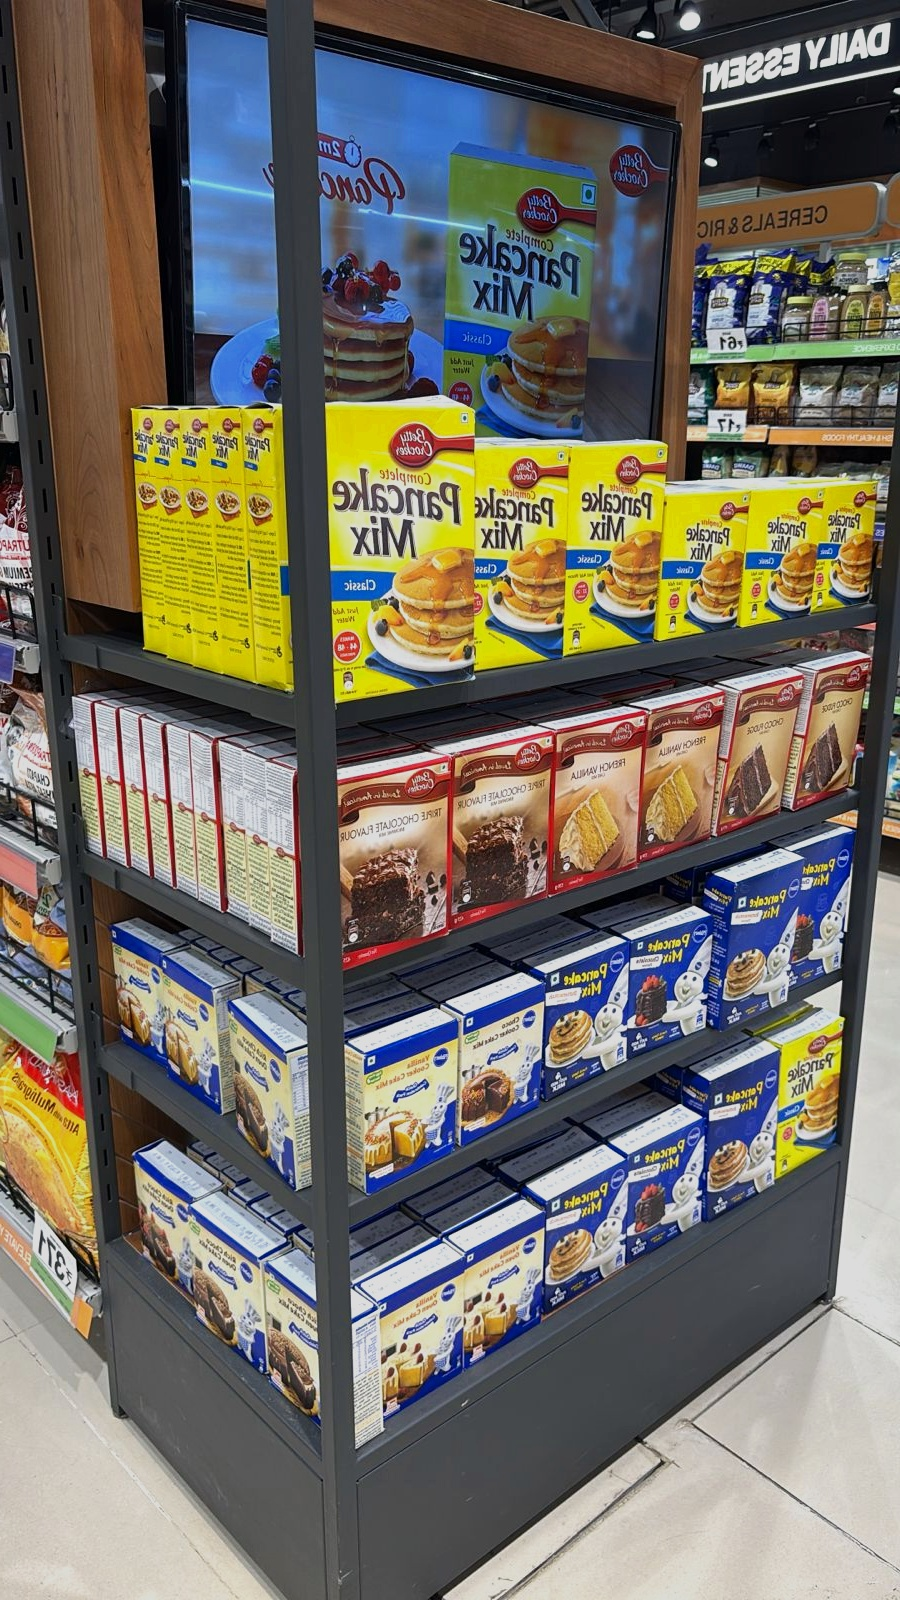Betty Crocker Pancake Mix: (322, 395, 475, 716), (455, 436, 576, 670), (558, 440, 674, 667), (651, 478, 752, 646), (742, 473, 822, 642), (776, 1012, 846, 1185), (216, 398, 256, 686), (180, 402, 220, 686), (245, 399, 280, 696), (816, 475, 880, 621), (140, 404, 168, 662), (160, 402, 186, 668)
